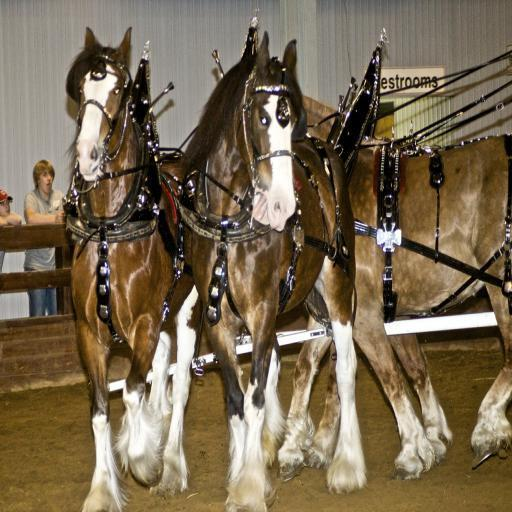horse: (273, 94, 510, 480), (180, 29, 368, 512), (64, 8, 200, 512)
